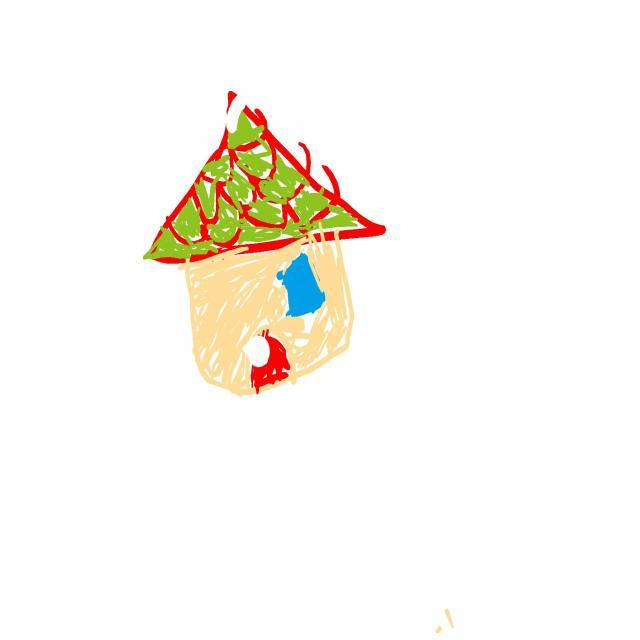door: (243, 330, 290, 394)
house: (145, 91, 386, 395)
roof: (145, 91, 386, 263)
wall: (183, 240, 354, 395)
window: (276, 253, 326, 316)
